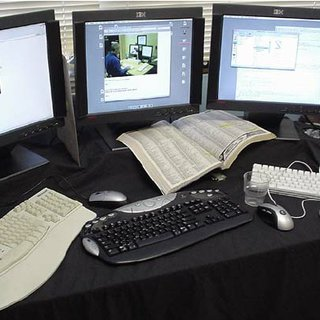keyboard: (82, 185, 250, 264), (246, 160, 320, 195)
monitor: (65, 8, 205, 127), (210, 1, 320, 117)
mouse: (257, 195, 298, 235)
